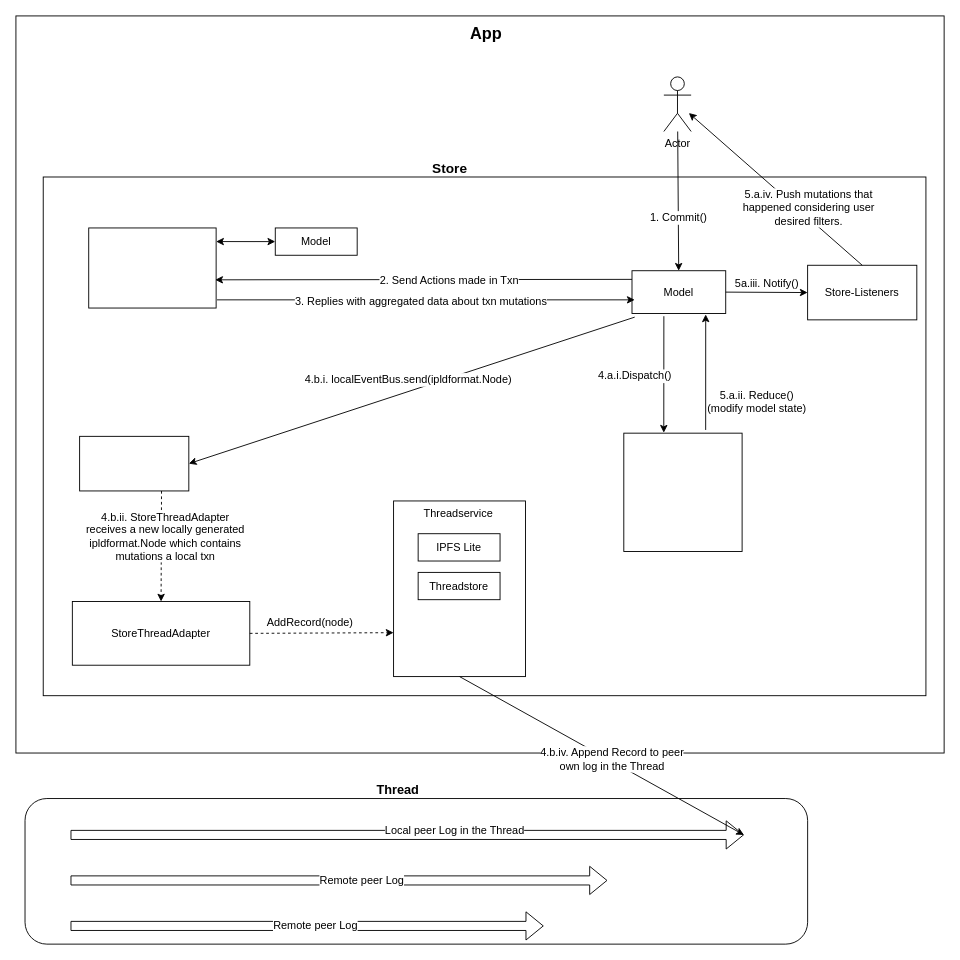
Image size: 960x960. Some labels were removed from this diagram. Each missing label, with the centre of its shape:
"Dispatcher" goes at point 682,491.
"EventCodec (json-patch/merge) (json-crdt)" goes at point 152,267.
"Local Events Broadcast" goes at point 134,463.
